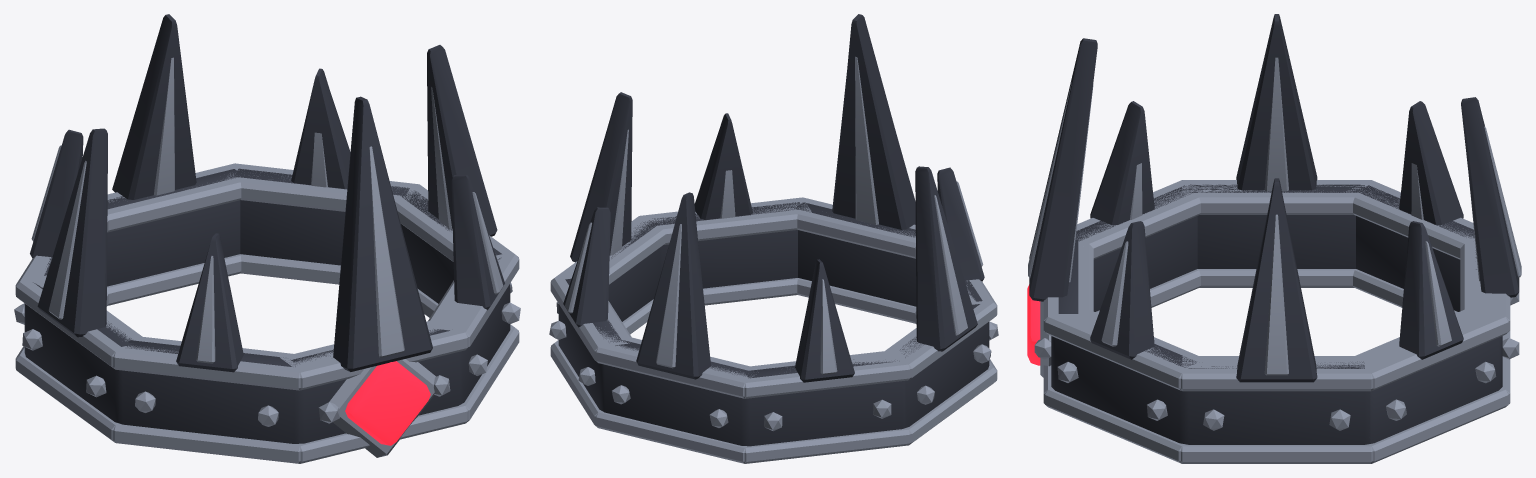
Rendered from LA_IronCrown.glb.
3 views of the same model, side by side, from view 1: azimuth 30°, elevation 25°; view 2: azimuth 150°, elevation 25°; view 3: azimuth 270°, elevation 25° (orthographic). The views are drawn at different scales.
Visible parts, largest first — view 1: LA_IronCrown; view 2: LA_IronCrown; view 3: LA_IronCrown.
Part boxes in pixels (bbox=[...]): LA_IronCrown: bbox=[14, 14, 520, 463]; LA_IronCrown: bbox=[549, 14, 998, 463]; LA_IronCrown: bbox=[1027, 14, 1521, 463].
Size of the model in its own units: 2.26 by 1.73 by 2.28.
